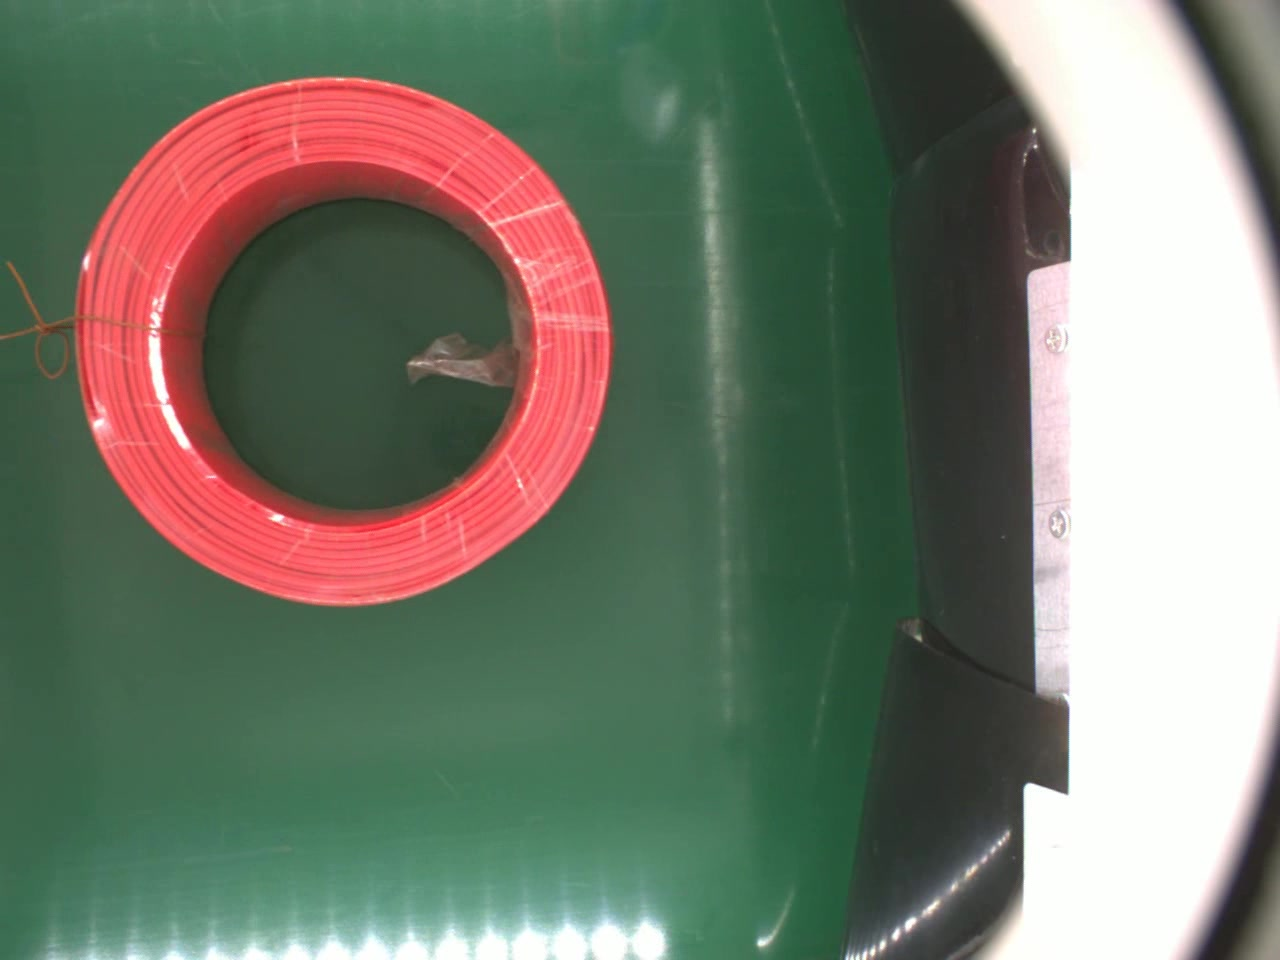red: (71, 69, 613, 610)
